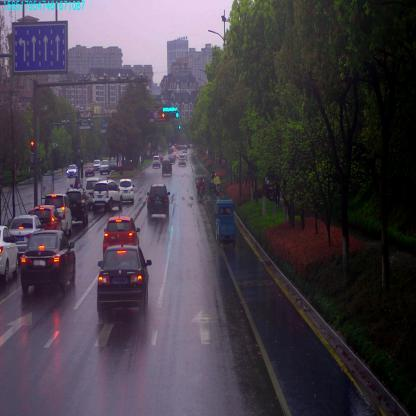traffic-light: (163, 106, 178, 113), (162, 112, 169, 119), (172, 112, 180, 118)
